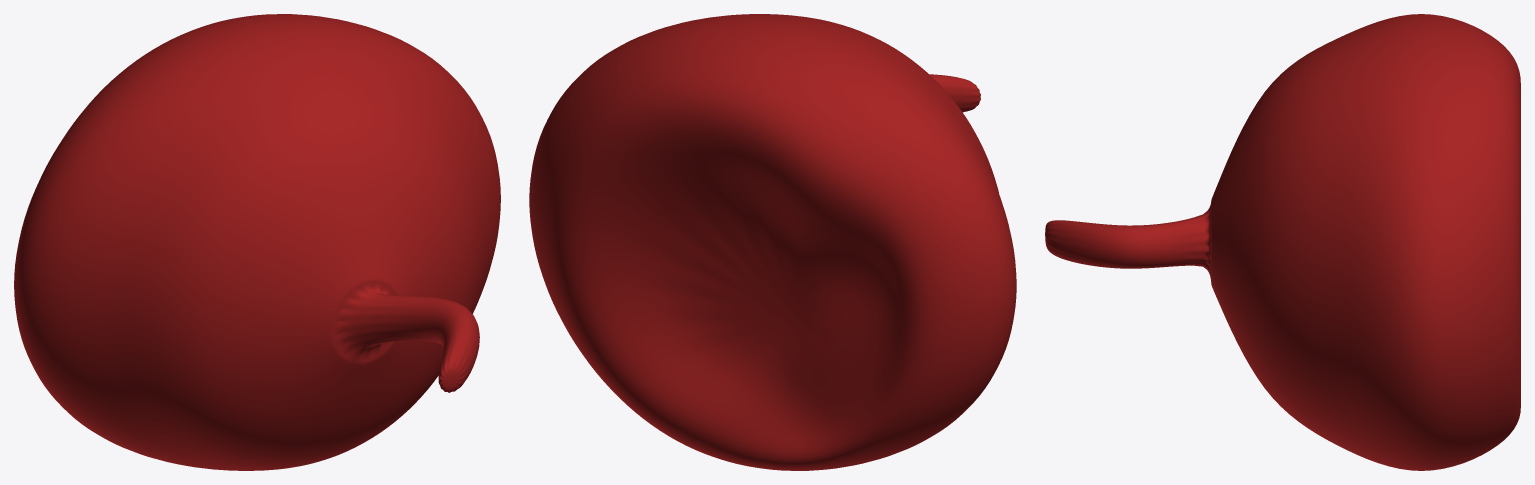
The model's file is prostata.fbx.
3 renders of one model, left to right at view 1: azimuth 30°, elevation 25°; view 2: azimuth 150°, elevation 25°; view 3: azimuth 270°, elevation 25°, orthographic. The views are drawn at different scales.
Parts seen in each view (by area): view 1: Sphere; view 2: Sphere; view 3: Sphere.
Part boxes in pixels (box(x1,y1,x2,y2)): Sphere: box(14, 14, 500, 470); Sphere: box(529, 14, 1016, 470); Sphere: box(1045, 14, 1520, 470).
Bounding box in the file's own units: 2.29 × 1.95 × 2.09.
